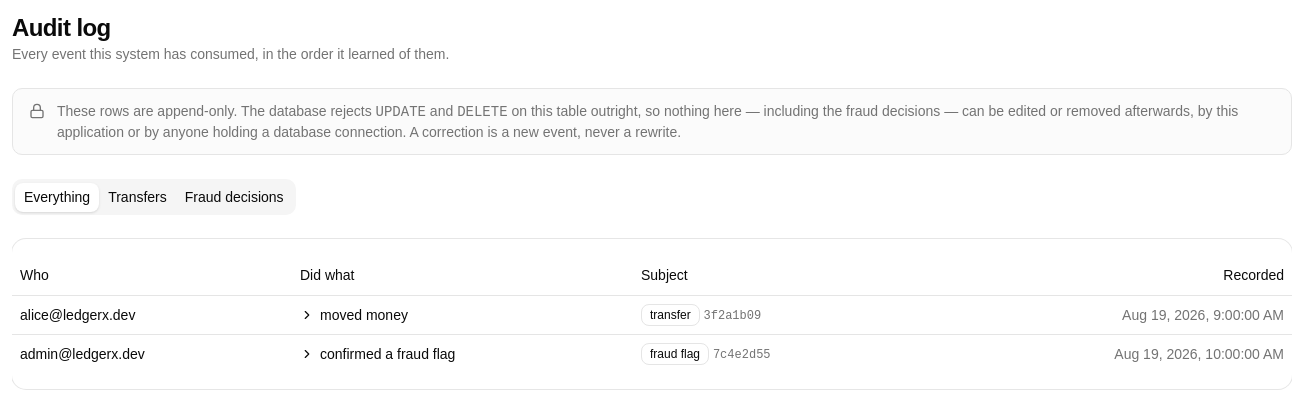
Test: filtering and loading › asks the server for one aggregate type rather than filtering on the client
The image size is (1292, 407).
Click the tab "Fraud decisions": {"x": 234, "y": 197} [176,182,293,212]
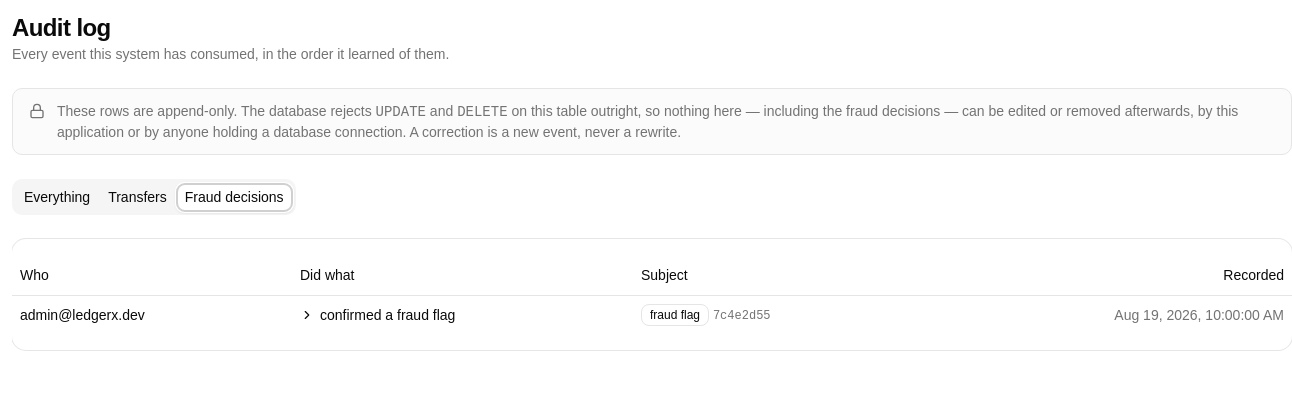
expect the text "confirmed a fraud flag" is shown: met, box [320,304,455,324]
expect the number of rows with test id "audit-row" is 1: met, box [12,295,1291,334]
